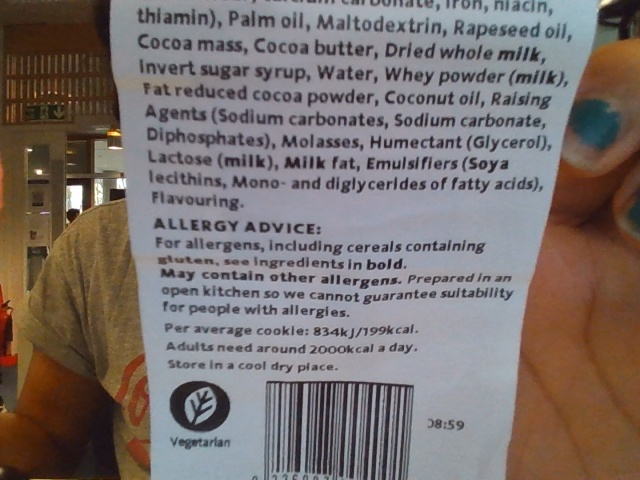milk: (497, 45, 542, 67), (283, 151, 326, 171), (517, 71, 559, 89), (225, 155, 267, 171)
